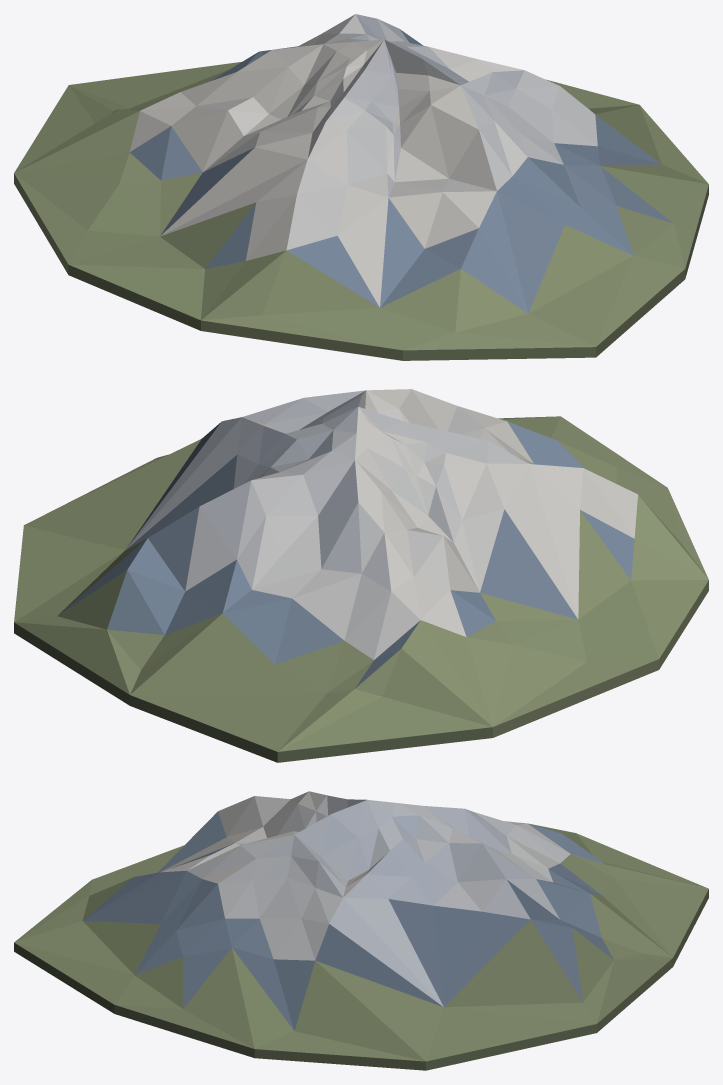
Rendered from massif_west_spur.glb.
3 renders of one model, top to bottom at view 1: azimuth 30°, elevation 25°; view 2: azimuth 150°, elevation 25°; view 3: azimuth 270°, elevation 25°, orthographic. The views are drawn at different scales.
Visible parts, largest first — view 1: massif_west_spur; view 2: massif_west_spur; view 3: massif_west_spur.
Boxes of the visible parts, x1,y1,x2,y2 form: massif_west_spur: (14,14,708,360); massif_west_spur: (14,389,708,762); massif_west_spur: (14,791,708,1070).
Bounding box in the file's own units: 598 × 165 × 700.
